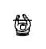Seat: (12, 13, 32, 37)
